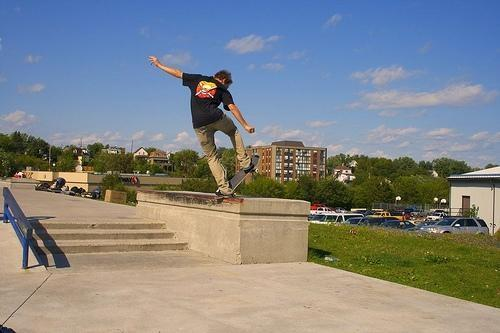car: (420, 217, 490, 234), (308, 214, 365, 225), (344, 217, 398, 227), (380, 220, 418, 230), (366, 212, 406, 220), (310, 207, 336, 214), (428, 212, 448, 220), (411, 209, 428, 216), (310, 204, 326, 210), (335, 209, 347, 212)
